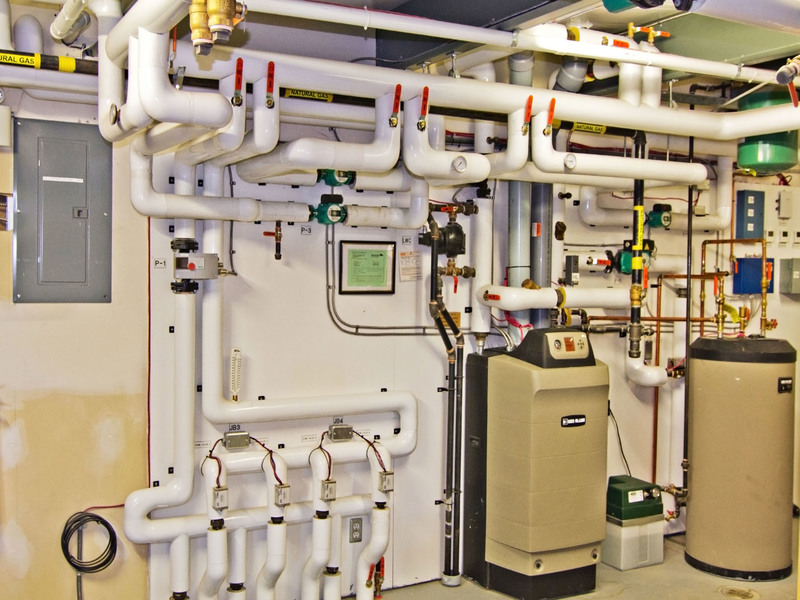valve: (218, 59, 251, 110), (262, 55, 283, 115), (165, 17, 186, 74), (381, 80, 404, 131), (775, 63, 798, 110), (541, 94, 561, 140), (597, 34, 641, 52), (518, 91, 533, 135), (637, 262, 652, 304), (759, 261, 778, 294), (441, 263, 459, 293), (419, 81, 429, 134), (645, 20, 671, 40), (378, 551, 392, 588), (584, 253, 614, 269), (710, 272, 722, 306), (625, 21, 652, 36), (727, 251, 742, 276), (479, 288, 505, 302), (362, 562, 375, 588), (257, 228, 284, 240)
